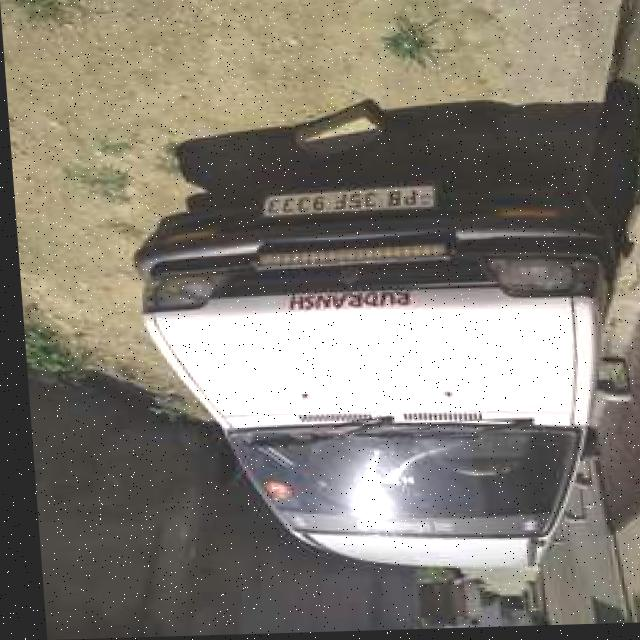plate: (258, 187, 434, 221)
